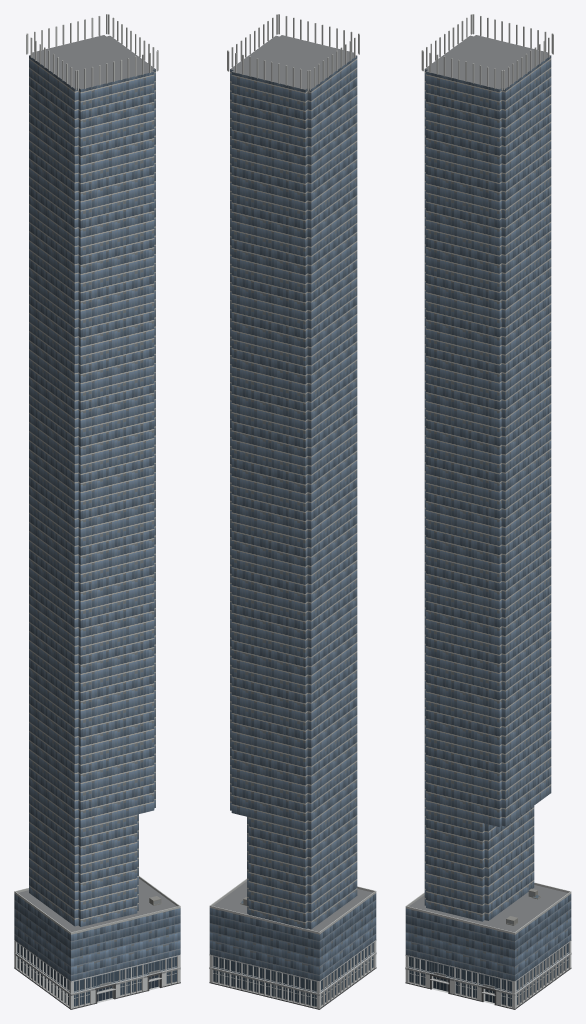
The model's file is central_park_tower.glb.
3 renders of one model, left to right at view 1: azimuth 30°, elevation 25°; view 2: azimuth 150°, elevation 25°; view 3: azimuth 330°, elevation 25°, orthographic.
Parts seen in each view (by area): view 1: central_park_tower; view 2: central_park_tower; view 3: central_park_tower.
Part boxes in pixels (box(x1,y1,x2,y2)): central_park_tower: box(14, 14, 180, 1009); central_park_tower: box(209, 14, 376, 1009); central_park_tower: box(405, 14, 571, 1009).
Size of the model in its own units: 58.25 by 472 by 52.84.
Materials: 3 (3 with a texture image).
